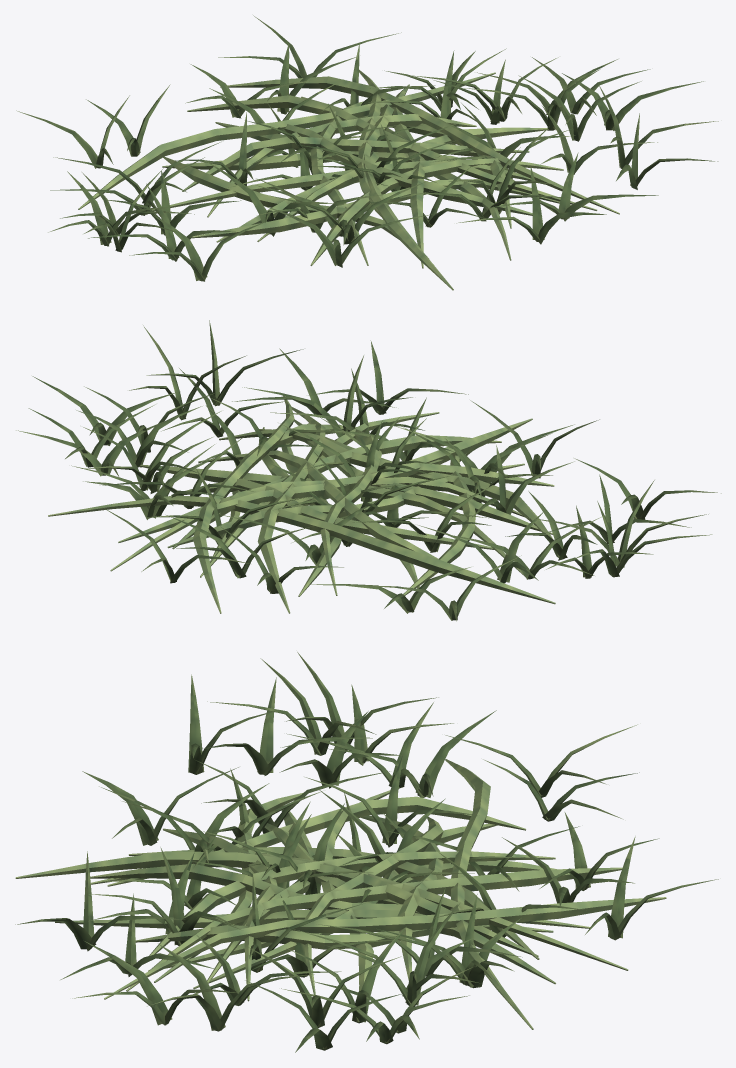
Rendered from underworld-ground-rootgrass-woven.glb.
3 views of the same model, one above another, from view 1: azimuth 30°, elevation 25°; view 2: azimuth 150°, elevation 25°; view 3: azimuth 270°, elevation 25° (orthographic). The views are drawn at different scales.
Visible parts, largest first — view 1: root-grass, woven-runners; view 2: root-grass, woven-runners; view 3: root-grass, woven-runners.
Part boxes in pixels (x1=…): root-grass: x1=16, y1=15, x2=718, y2=281; woven-runners: x1=78, y1=69, x2=619, y2=290; root-grass: x1=16, y1=320, x2=721, y2=621; woven-runners: x1=48, y1=396, x2=555, y2=613; root-grass: x1=15, y1=652, x2=718, y2=1052; woven-runners: x1=15, y1=759, x2=666, y2=1029.
Size of the model in its own units: 4.75 by 0.3725 by 3.62.
2 materials, 2 textured.
